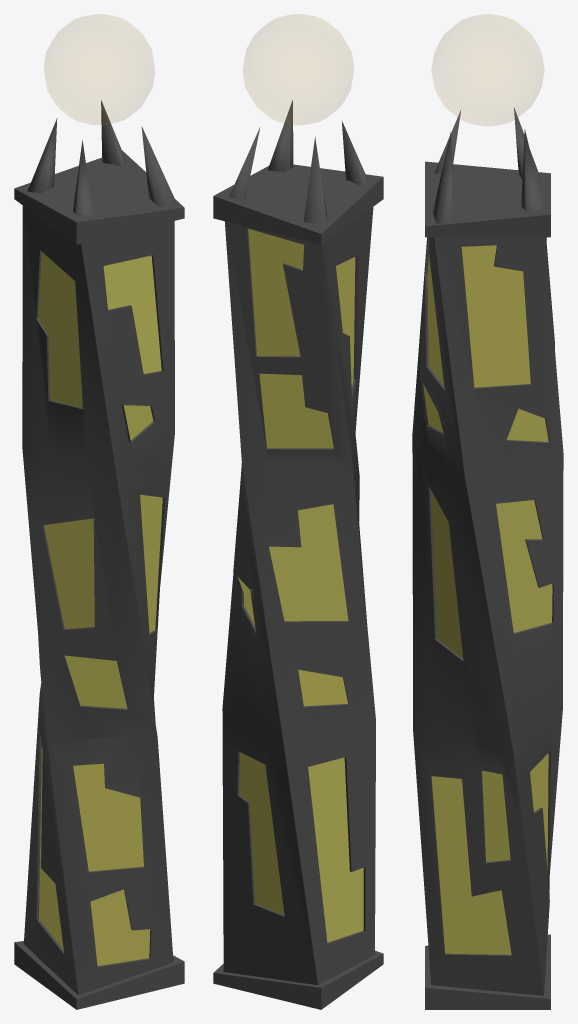
Rendered from desert_remain.fbx.
3 views of the same model, side by side, from view 1: azimuth 30°, elevation 25°; view 2: azimuth 150°, elevation 25°; view 3: azimuth 270°, elevation 25° (orthographic).
Parts seen in each view (by area): view 1: pCube4, pSphere1, pCube2, pasted__pCube2, pCone2, pCone3, pCone1, pCone4; view 2: pCube4, pSphere1, pCube2, pasted__pCube2, pCone3, pCone2, pCone4, pCone1; view 3: pCube4, pSphere1, pCube2, pasted__pCube2, pCone2, pCone1, pCone3, pCone4.
Boxes of the visible parts, bbox=[...] form: pCube4: bbox=[22, 205, 174, 995]; pSphere1: bbox=[44, 14, 154, 124]; pCube2: bbox=[14, 150, 184, 244]; pasted__pCube2: bbox=[14, 941, 184, 1009]; pCone2: bbox=[141, 126, 176, 206]; pCone3: bbox=[27, 118, 57, 193]; pCone1: bbox=[101, 100, 126, 166]; pCone4: bbox=[72, 140, 93, 215]; pCube4: bbox=[222, 207, 375, 984]; pSphere1: bbox=[243, 14, 353, 124]; pCube2: bbox=[213, 164, 383, 244]; pasted__pCube2: bbox=[213, 950, 383, 1009]; pCone3: bbox=[303, 136, 326, 224]; pCone2: bbox=[268, 99, 293, 172]; pCone4: bbox=[341, 120, 368, 185]; pCone1: bbox=[229, 127, 260, 199]; pCube4: bbox=[412, 237, 563, 995]; pSphere1: bbox=[432, 14, 543, 125]; pCube2: bbox=[425, 161, 550, 237]; pasted__pCube2: bbox=[425, 934, 550, 1009]; pCone2: bbox=[432, 132, 452, 223]; pCone1: bbox=[521, 129, 543, 212]; pCone3: bbox=[514, 107, 541, 180]; pCone4: bbox=[434, 109, 461, 173].
Size of the model in its own units: 2.66 by 18.75 by 2.66.
